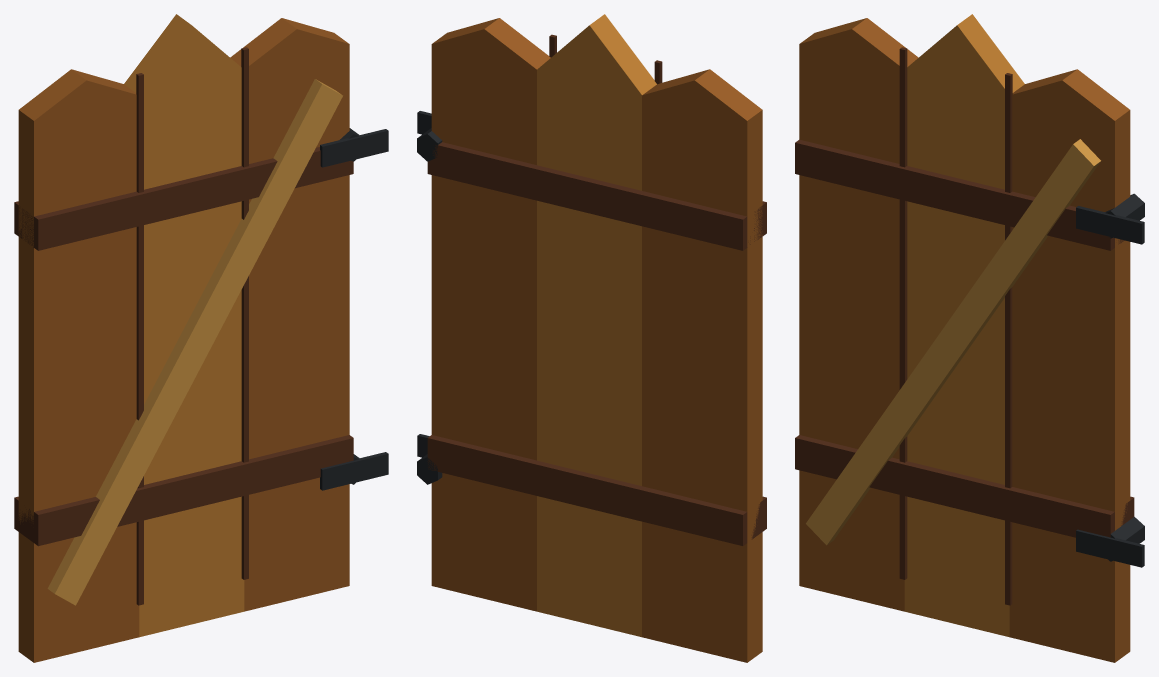
3 views of the same model, side by side, from view 1: azimuth 30°, elevation 25°; view 2: azimuth 150°, elevation 25°; view 3: azimuth 330°, elevation 25° (orthographic).
Visible parts, largest first — view 1: WK_WoodPalisade_W17_LOD1; view 2: WK_WoodPalisade_W17_LOD1; view 3: WK_WoodPalisade_W17_LOD1.
Part boxes in pixels (<box>): WK_WoodPalisade_W17_LOD1: <box>14,14,388,662</box>; WK_WoodPalisade_W17_LOD1: <box>417,14,766,662</box>; WK_WoodPalisade_W17_LOD1: <box>795,14,1144,662</box>.
Bounding box in the file's own units: 2.1 × 3.45 × 0.28.
